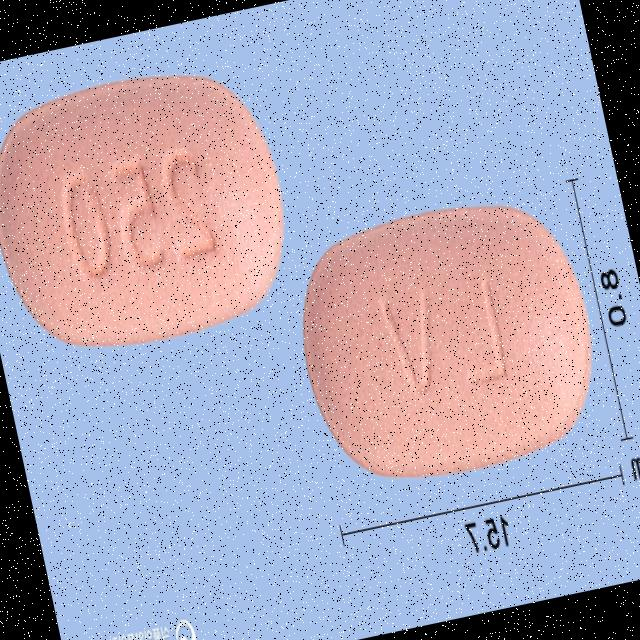Lexacin: (282, 184, 615, 496), (0, 52, 303, 365)
